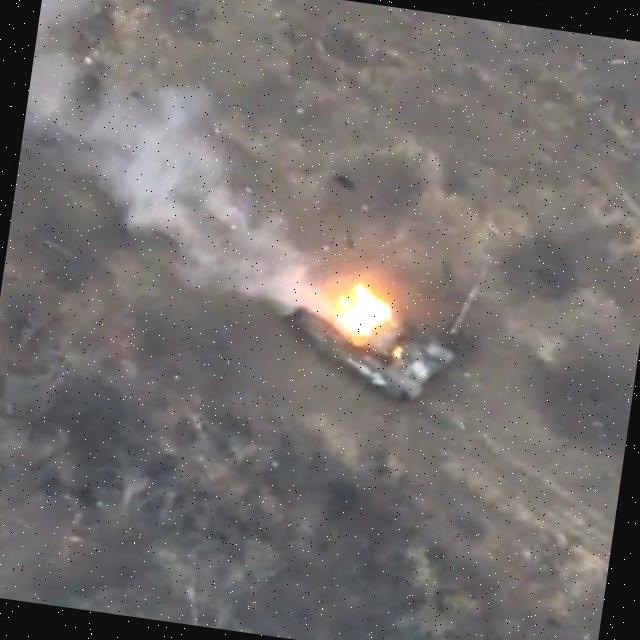Destroyed: (281, 272, 471, 408)
